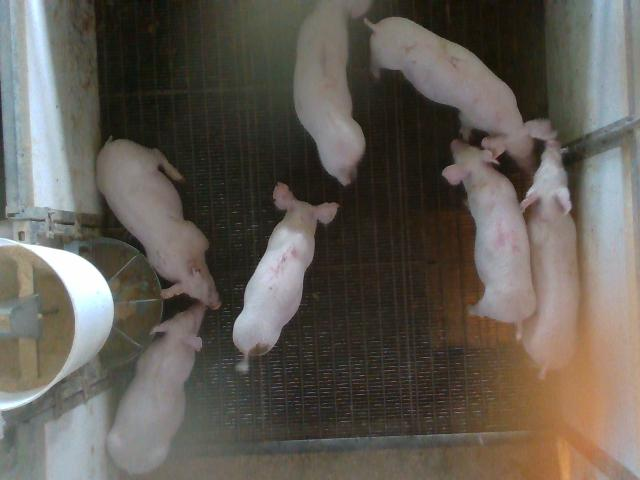pig-4: (442, 140, 536, 322)
pig-5: (232, 182, 339, 372)
